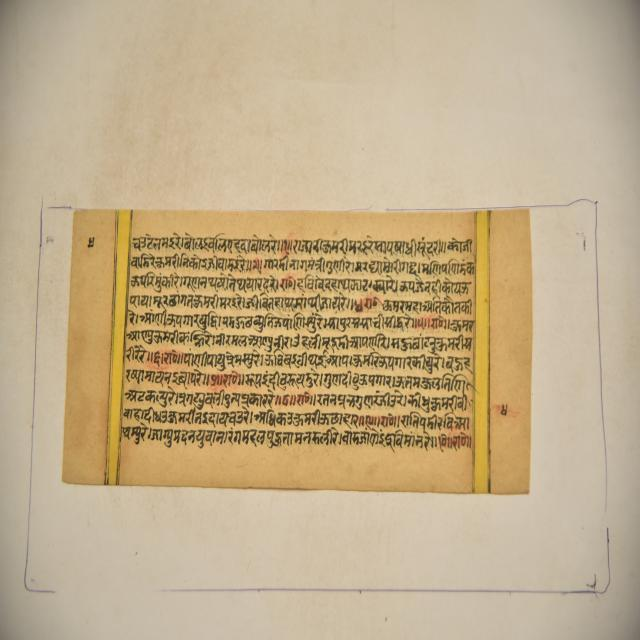text_paragraph: (61, 206, 528, 498)
